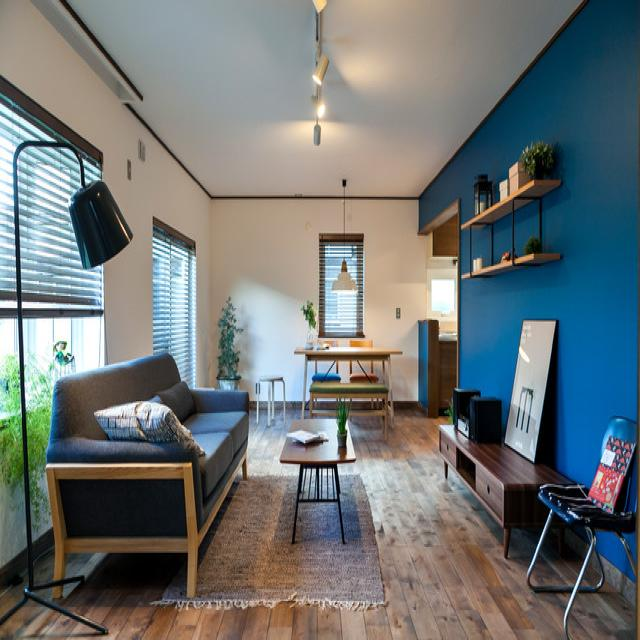vintage desk: (282, 417, 351, 557), (297, 344, 404, 373)
vintage shelf: (439, 418, 558, 546)
vintage sofa: (50, 348, 254, 606)
